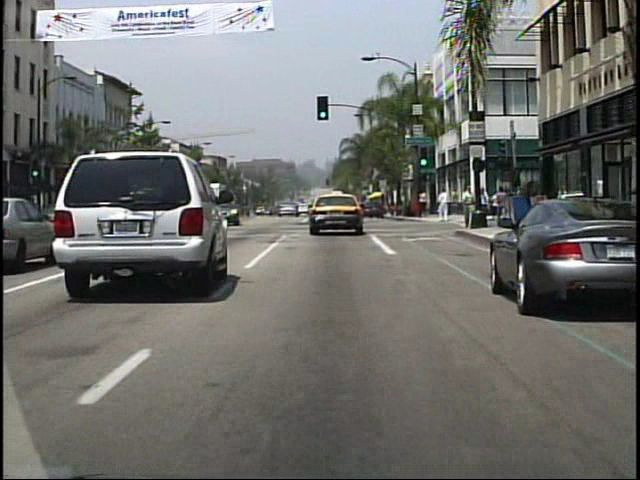person: (473, 187, 491, 228), (493, 186, 509, 227), (461, 184, 475, 228), (476, 186, 489, 227), (437, 189, 449, 222), (489, 190, 500, 222), (418, 190, 429, 218)
